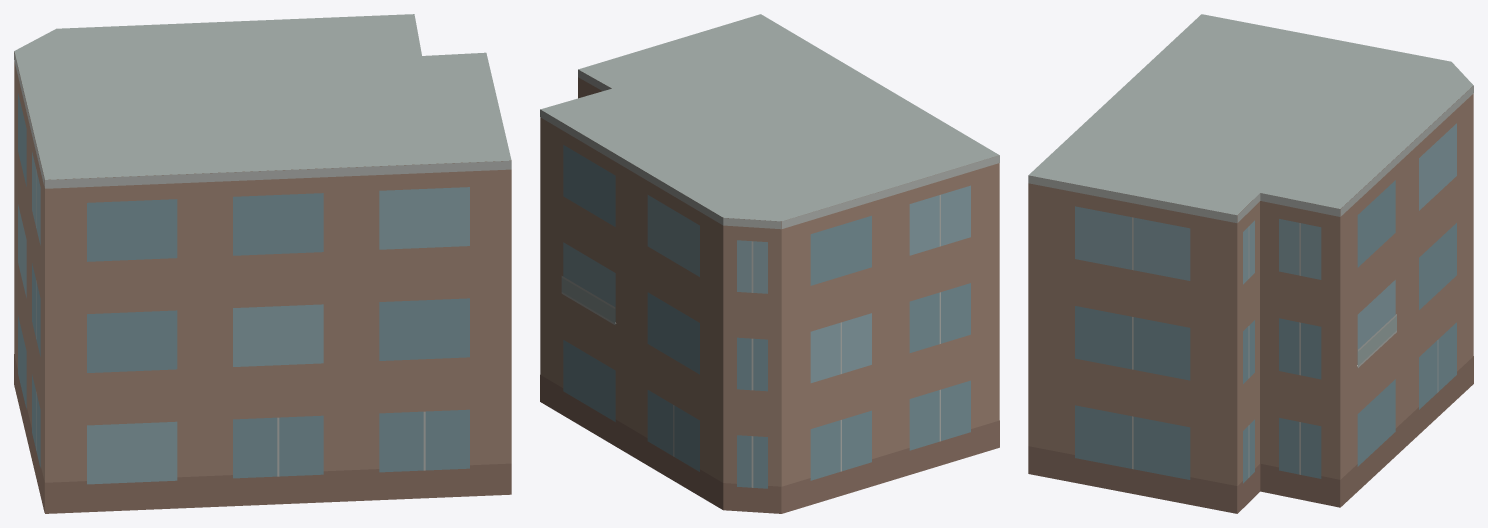
File: survey-upis-32669691.glb
3 views of the same model, side by side, from view 1: azimuth 30°, elevation 25°; view 2: azimuth 150°, elevation 25°; view 3: azimuth 270°, elevation 25° (orthographic). The views are drawn at different scales.
Parts seen in each view (by area): view 1: survey-upis-32669691.tmp; view 2: survey-upis-32669691.tmp; view 3: survey-upis-32669691.tmp.
Part boxes in pixels (bbox=[...]): survey-upis-32669691.tmp: bbox=[14, 14, 511, 513]; survey-upis-32669691.tmp: bbox=[540, 14, 999, 513]; survey-upis-32669691.tmp: bbox=[1028, 14, 1473, 513].
Size of the model in its own units: 13.24 by 9.15 by 12.38.
